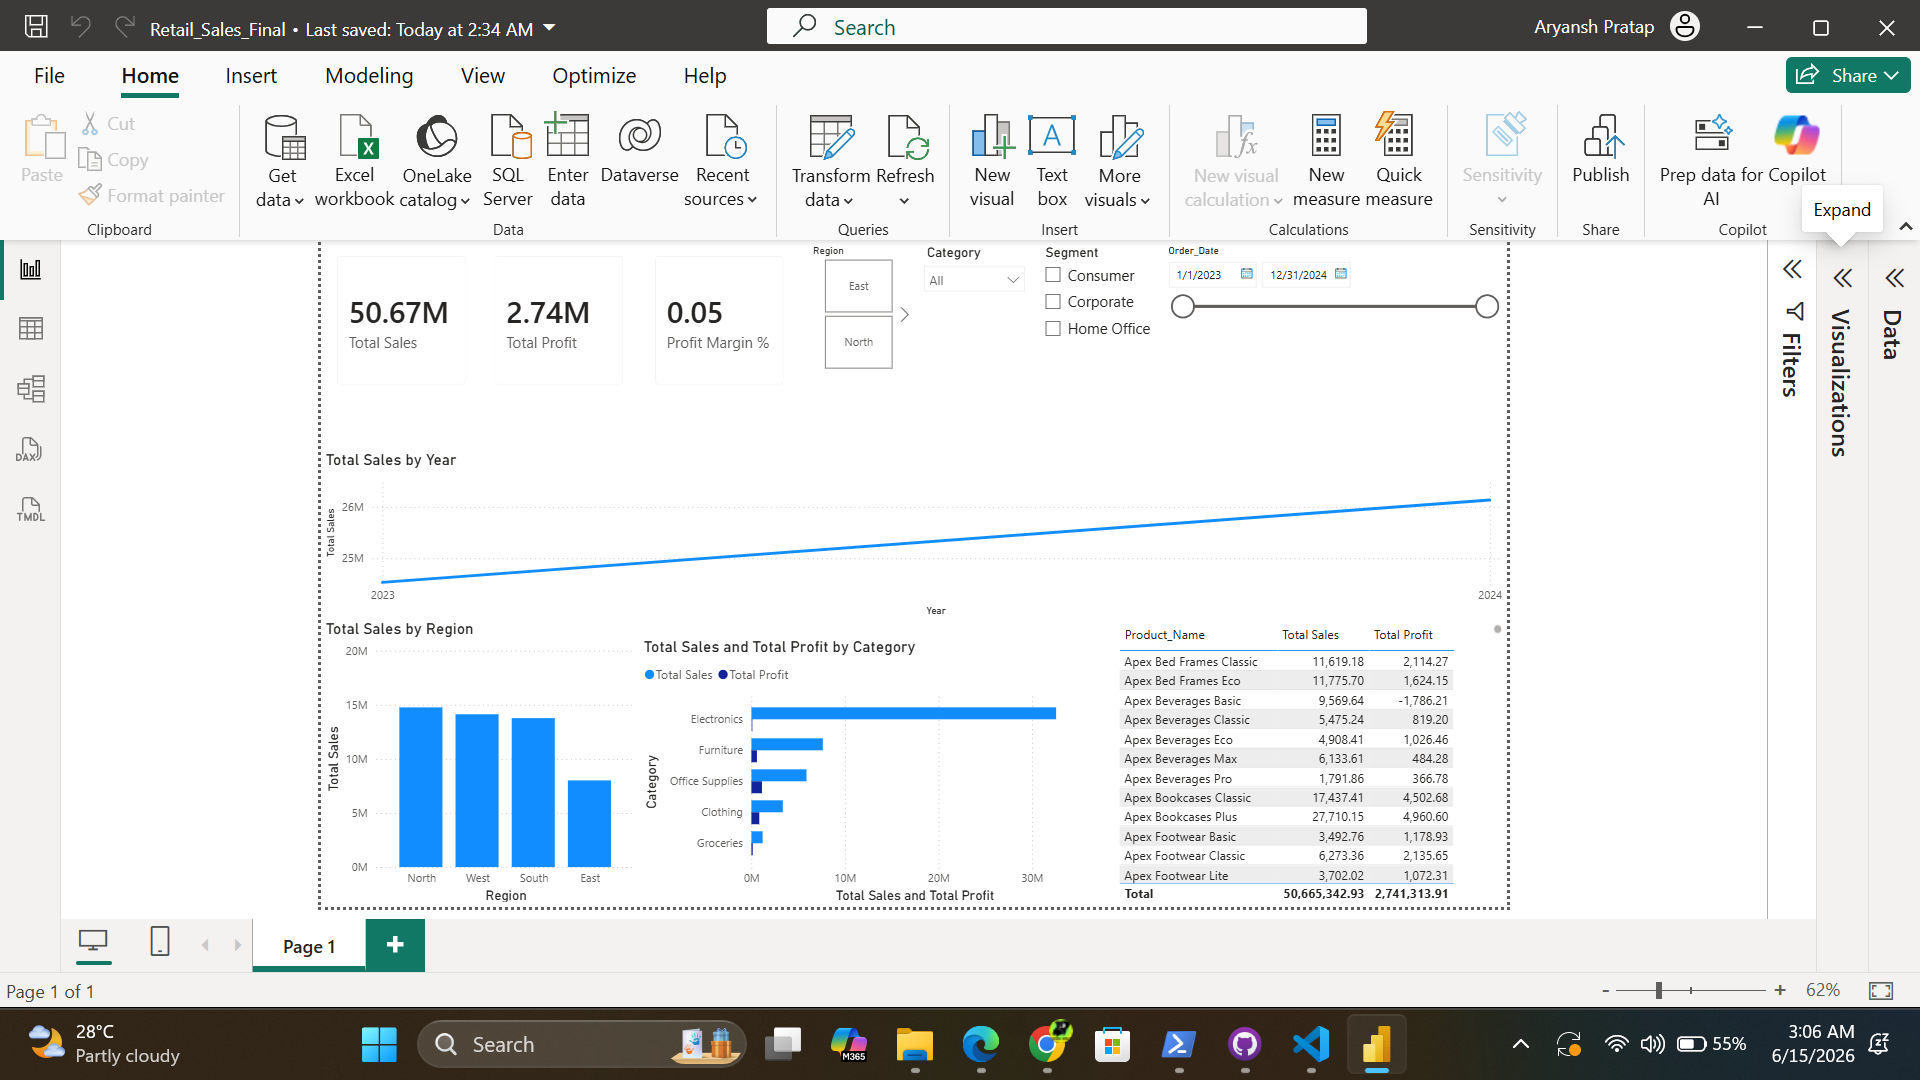

The page's visual inventory and layout, read from the dashboard file:
{"tool":"powerbi","page":{"name":"Page 1","canvas":[1280,720],"ordinal":0},"visuals":[{"type":"cardVisual","fields":{"Data":["cleaned_retail_sales_data.Total Sales"]},"box":[0,0,173.9,173.9],"z":0},{"type":"cardVisual","fields":{"Data":["cleaned_retail_sales_data.Total Profit"]},"box":[170.1,0,173.9,173.9],"z":1000},{"type":"cardVisual","fields":{"Data":["cleaned_retail_sales_data.Profit Margin %"]},"box":[343.9,0,173.9,173.9],"z":2000},{"type":"clusteredBarChart","fields":{"Category":["cleaned_retail_sales_data.Category"],"Y":["cleaned_retail_sales_data.Total Sales","cleaned_retail_sales_data.Total Profit"]},"box":[343.9,429,491.3,291],"z":3000},{"type":"lineChart","fields":{"Category":["cleaned_retail_sales_data.Order_Date.Variation.Date Hierarchy.Year","cleaned_retail_sales_data.Order_Date.Variation.Date Hierarchy.Quarter","cleaned_retail_sales_data.Order_Date.Variation.Date Hierarchy.Month","cleaned_retail_sales_data.Order_Date.Variation.Date Hierarchy.Day"],"Y":["cleaned_retail_sales_data.Total Sales"]},"box":[0,226.8,1279.4,183.3],"z":4000},{"type":"clusteredColumnChart","fields":{"Category":["cleaned_retail_sales_data.Region"],"Y":["cleaned_retail_sales_data.Total Sales"]},"box":[0,410.1,343.9,309.9],"z":5000},{"type":"tableEx","fields":{"Values":["cleaned_retail_sales_data.Product_Name","cleaned_retail_sales_data.Total Sales","cleaned_retail_sales_data.Total Profit"]},"box":[856.1,410.1,423.3,309.9],"z":6000},{"type":"slicer","fields":{"Values":["cleaned_retail_sales_data.Region"]},"box":[517.8,0,122.8,145.5],"z":7000},{"type":"slicer","fields":{"Values":["cleaned_retail_sales_data.Category"]},"box":[640.6,0,128.5,145.5],"z":7001},{"type":"slicer","fields":{"Values":["cleaned_retail_sales_data.Segment"]},"box":[769.1,0,132.3,145.5],"z":7002},{"type":"slicer","fields":{"Values":["cleaned_retail_sales_data.Order_Date"]},"box":[901.4,0,378,149.3],"z":7003}]}

Visuals, with their boxes on the page's 1280x720 design canvas (x1, y1, x2, y2). These are canvas units, not pixel positions in the 1920x1080 screenshot, which may show the page scaled, cropped or inside an application window:
cardVisual - cleaned_retail_sales_data.Total Sales: crop(0, 0, 174, 174)
cardVisual - cleaned_retail_sales_data.Total Profit: crop(170, 0, 344, 174)
cardVisual - cleaned_retail_sales_data.Profit Margin %: crop(344, 0, 518, 174)
clusteredBarChart - cleaned_retail_sales_data.Category x cleaned_retail_sales_data.Total Sales: crop(344, 429, 835, 720)
lineChart - cleaned_retail_sales_data.Order_Date.Variation.Date Hierarchy.Year x cleaned_retail_sales_data.Order_Date.Variation.Date Hierarchy.Quarter: crop(0, 227, 1279, 410)
clusteredColumnChart - cleaned_retail_sales_data.Region x cleaned_retail_sales_data.Total Sales: crop(0, 410, 344, 720)
tableEx - cleaned_retail_sales_data.Product_Name x cleaned_retail_sales_data.Total Sales: crop(856, 410, 1279, 720)
slicer - cleaned_retail_sales_data.Region: crop(518, 0, 641, 146)
slicer - cleaned_retail_sales_data.Category: crop(641, 0, 769, 146)
slicer - cleaned_retail_sales_data.Segment: crop(769, 0, 901, 146)
slicer - cleaned_retail_sales_data.Order_Date: crop(901, 0, 1279, 149)
